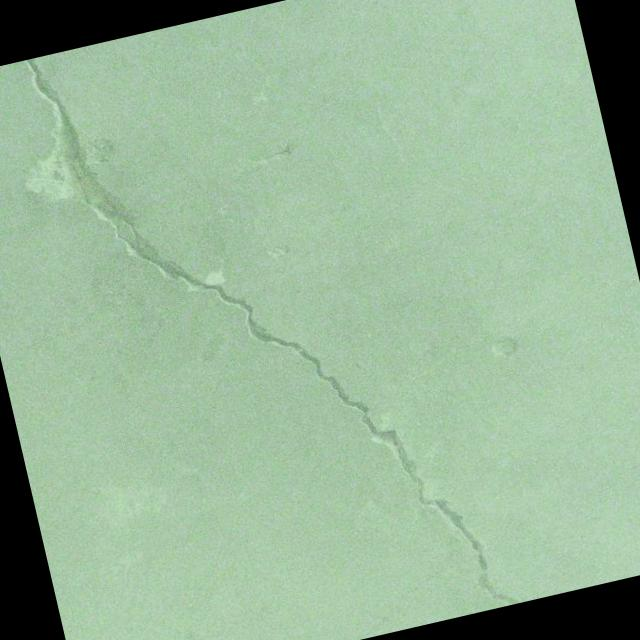crack: (24, 0, 521, 640), (343, 565, 462, 640), (124, 53, 164, 98), (86, 42, 105, 63)
